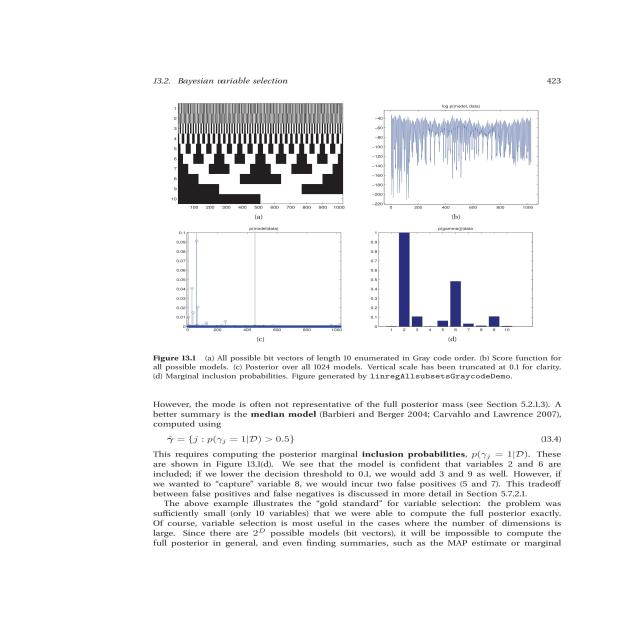diagram: (88, 65, 625, 392)
